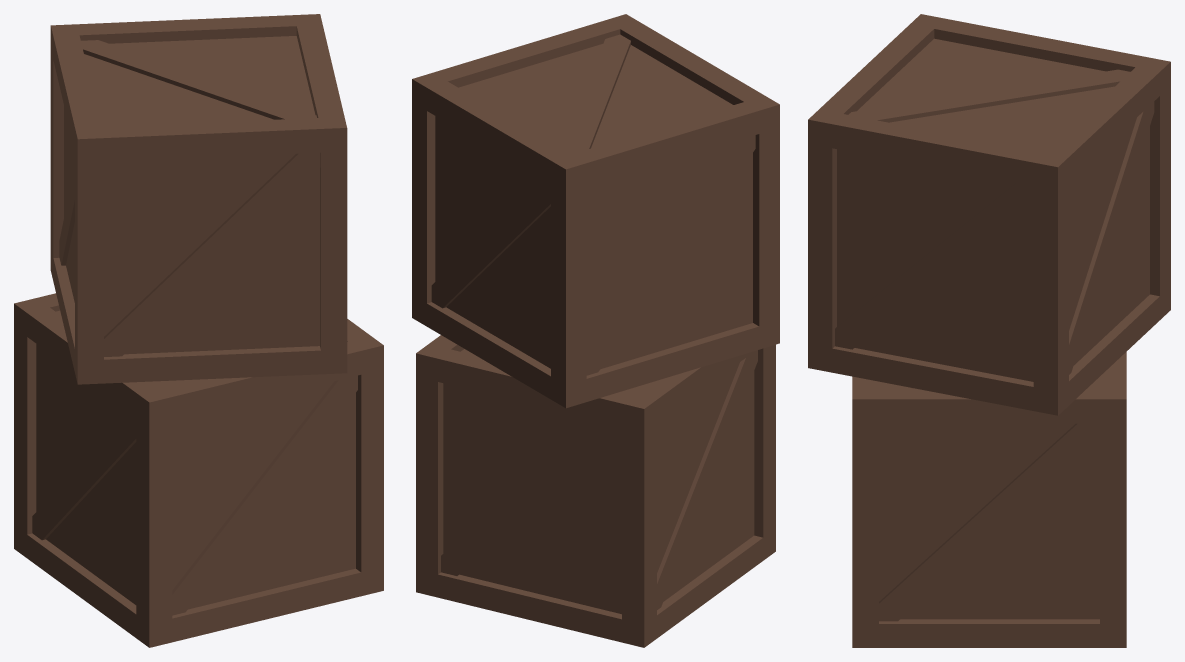
File: caja.glb
3 views of the same model, side by side, from view 1: azimuth 30°, elevation 25°; view 2: azimuth 150°, elevation 25°; view 3: azimuth 270°, elevation 25° (orthographic). The views are drawn at different scales.
Visible parts, largest first — view 1: Cubo.892, Cubo.5458; view 2: Cubo.892, Cubo.5458; view 3: Cubo.892, Cubo.5458.
Part boxes in pixels (<box>): Cubo.892: <box>50,14,347,384</box>; Cubo.5458: <box>14,293,383,647</box>; Cubo.892: <box>412,14,779,408</box>; Cubo.5458: <box>416,335,775,647</box>; Cubo.892: <box>808,14,1170,415</box>; Cubo.5458: <box>852,352,1126,647</box>.
Bounding box in the file's own units: 1.71 × 2.61 × 1.71.
